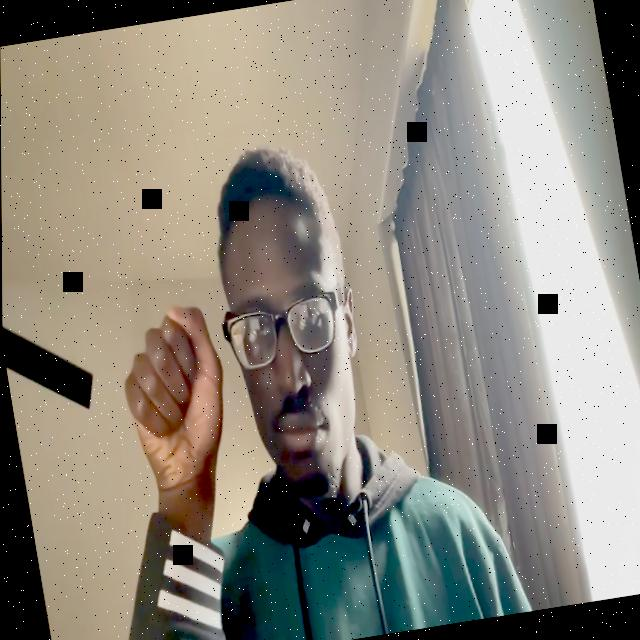Rock: (110, 299, 241, 498)
